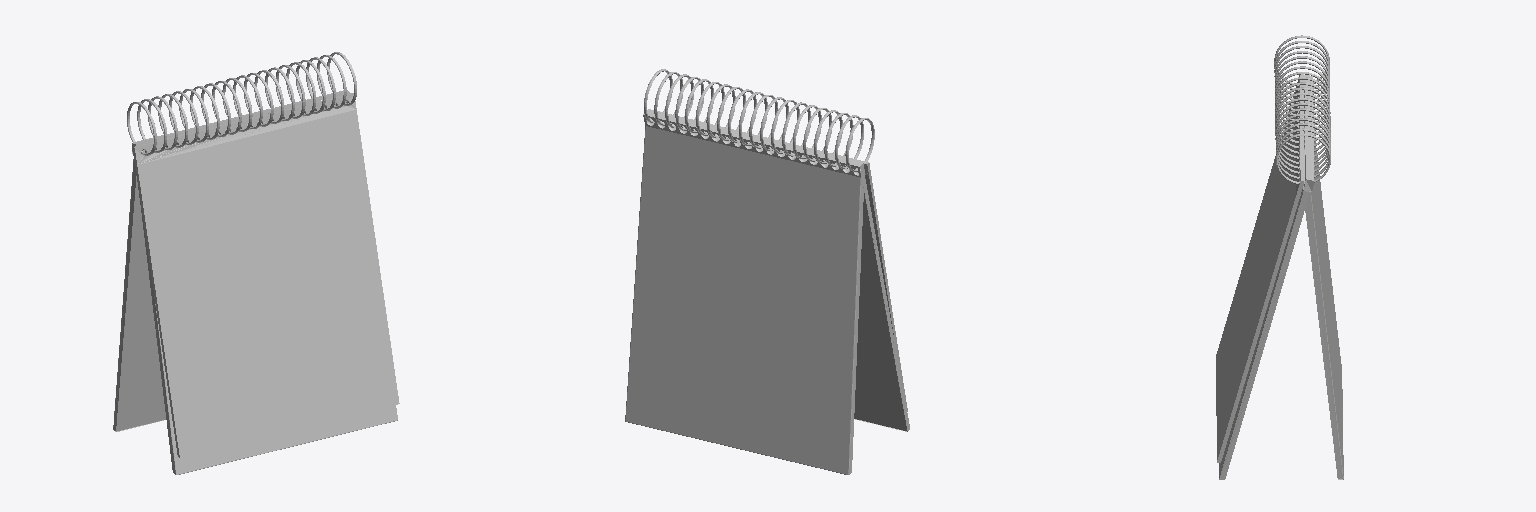
File: Calendar table.obj
The picture shows the model from 3 angles: view 1: azimuth 30°, elevation 25°; view 2: azimuth 150°, elevation 25°; view 3: azimuth 270°, elevation 25°; orthographic projection.
Parts seen in each view (by area): view 1: tableware_office_82, tableware_office_84, tableware_office_38; view 2: tableware_office_84, tableware_office_38, tableware_office_82; view 3: tableware_office_82, tableware_office_84, tableware_office_38.
Part boxes in pixels (left/top/right/bottom): tableware_office_82: left=133, top=93, right=399, bottom=457; tableware_office_84: left=113, top=159, right=397, bottom=474; tableware_office_38: left=132, top=90, right=349, bottom=155; tableware_office_84: left=625, top=122, right=909, bottom=474; tableware_office_38: left=643, top=111, right=864, bottom=177; tableware_office_82: left=647, top=109, right=907, bottom=411; tableware_office_82: left=1216, top=74, right=1304, bottom=462; tableware_office_84: left=1219, top=133, right=1343, bottom=479; tableware_office_38: left=1304, top=75, right=1313, bottom=191.
Size of the model in its own units: 131 by 190 by 64.9.